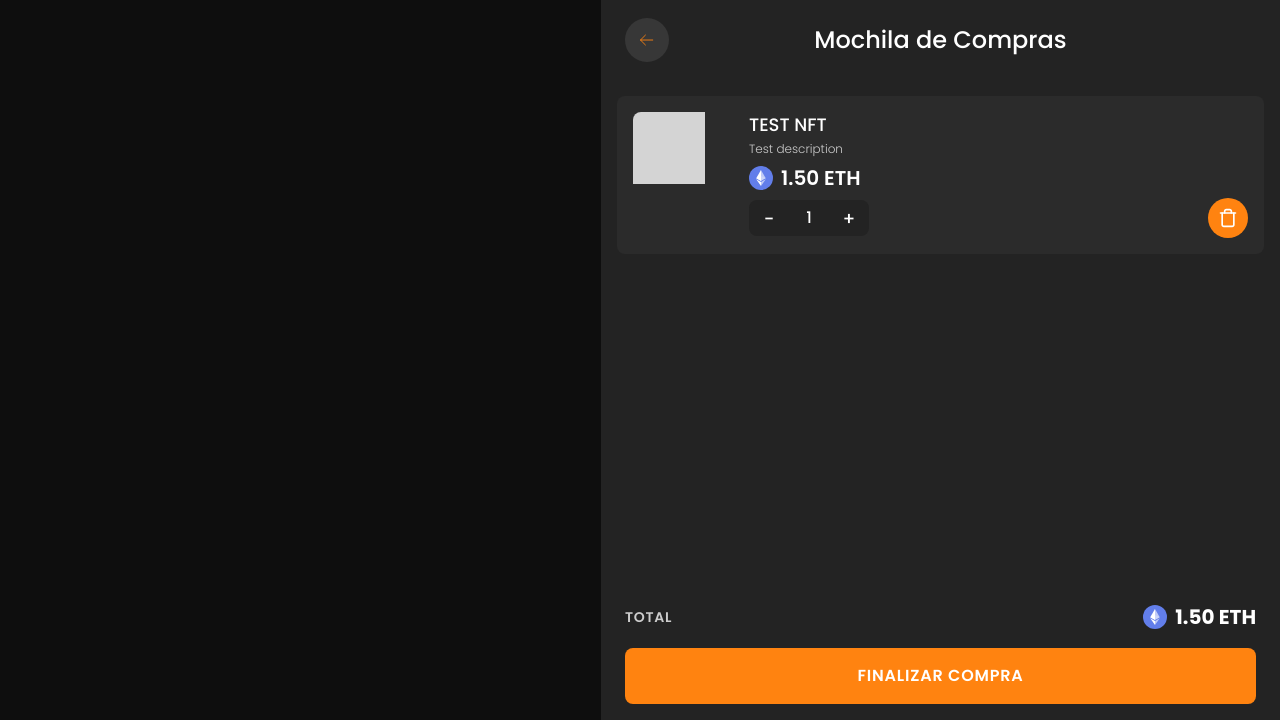
Test: CartDrawer › checkout flow › should show loading state when checkout button is clicked
Step 1. Click the button "Finalizar Compra" → x=940, y=676, box [625,648,1256,704]
Wait 100 ms
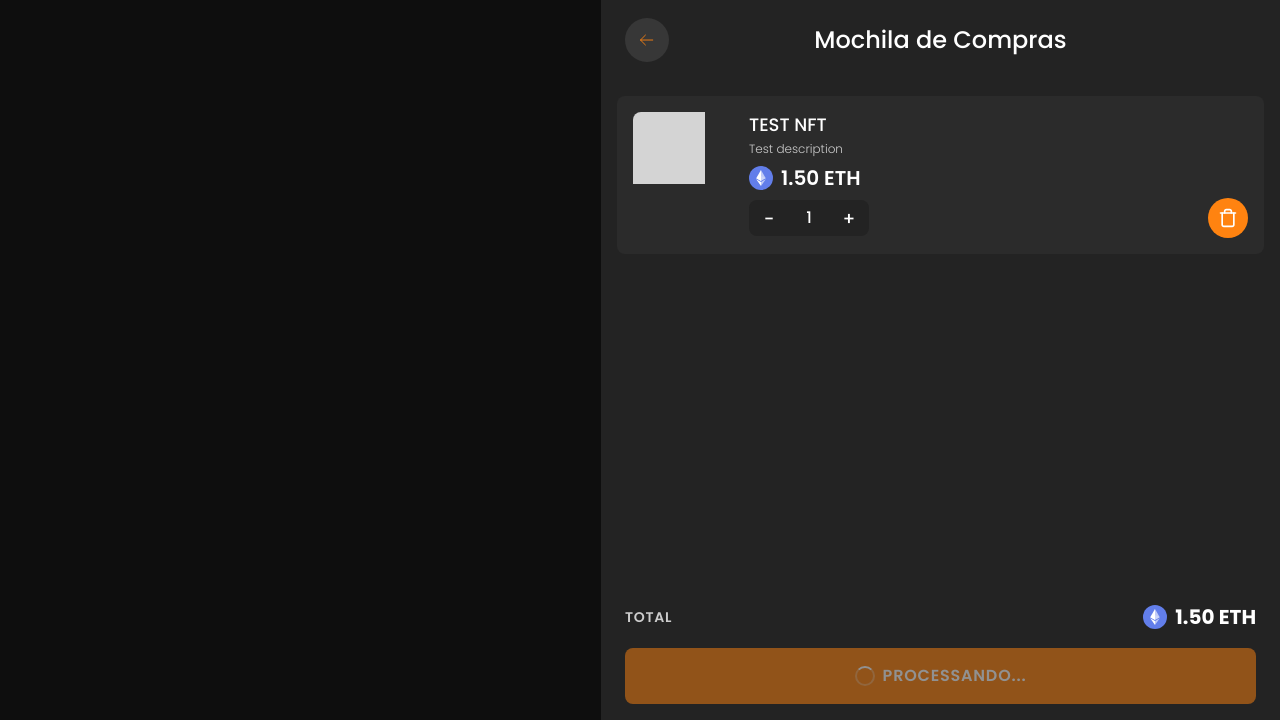
expect the button "Processando..." is disabled: met, box [625,648,1256,704]
